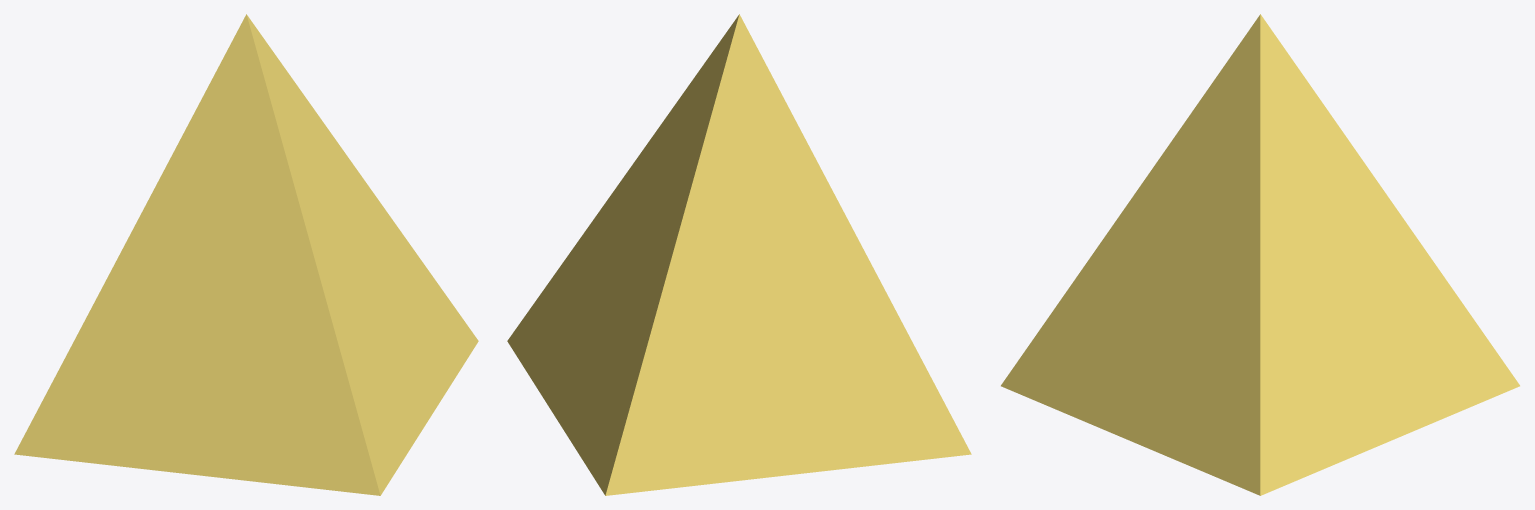
3 views of the same model, side by side, from view 1: azimuth 30°, elevation 25°; view 2: azimuth 150°, elevation 25°; view 3: azimuth 270°, elevation 25° (orthographic). The views are drawn at different scales.
Parts seen in each view (by area): view 1: Pyramid; view 2: Pyramid; view 3: Pyramid.
Boxes of the visible parts, <box> form: Pyramid: <box>14,14,478,495</box>; Pyramid: <box>507,14,971,495</box>; Pyramid: <box>1001,14,1519,495</box>.
Size of the model in its own units: 1.9 by 1.5 by 1.9.
